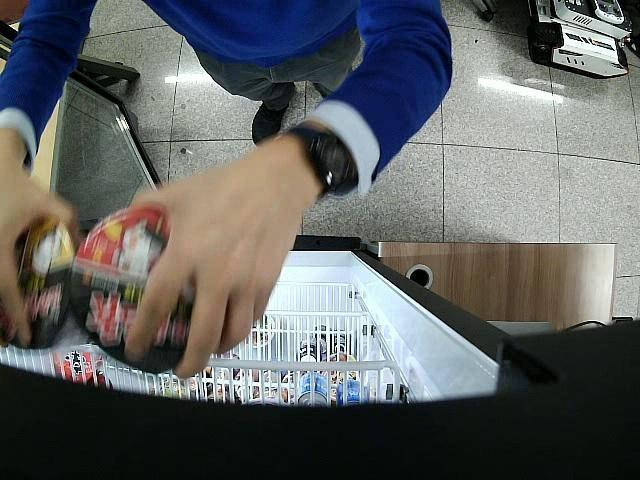07_buldak_L: (76, 207, 196, 373), (2, 214, 74, 348)
